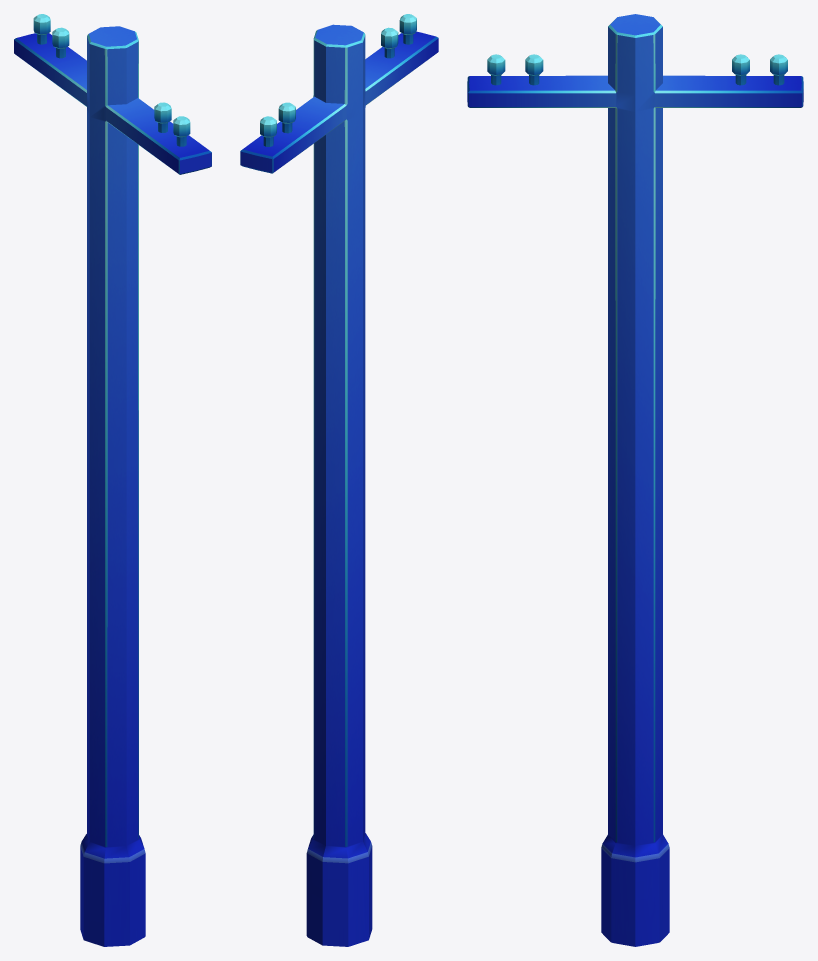
The model's file is powerLine.fbx.
The picture shows the model from 3 angles, left to right: view 1: azimuth 30°, elevation 25°; view 2: azimuth 150°, elevation 25°; view 3: azimuth 270°, elevation 25°; orthographic projection.
Visible parts, largest first — view 1: pCylinder6; view 2: pCylinder6; view 3: pCylinder6.
Boxes of the visible parts, x1,y1,x2,y2 form: pCylinder6: (14,14,211,946); pCylinder6: (240,14,438,946); pCylinder6: (467,14,803,946).
Size of the model in its own units: 0.4217 by 6.16 by 2.07.
